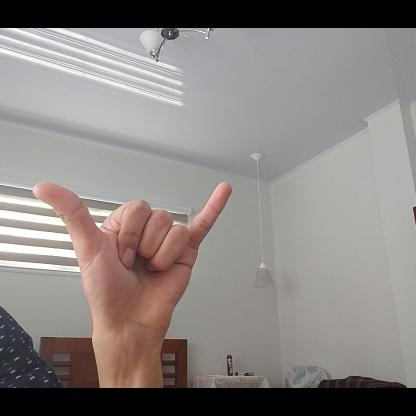Y: (32, 176, 237, 338)
